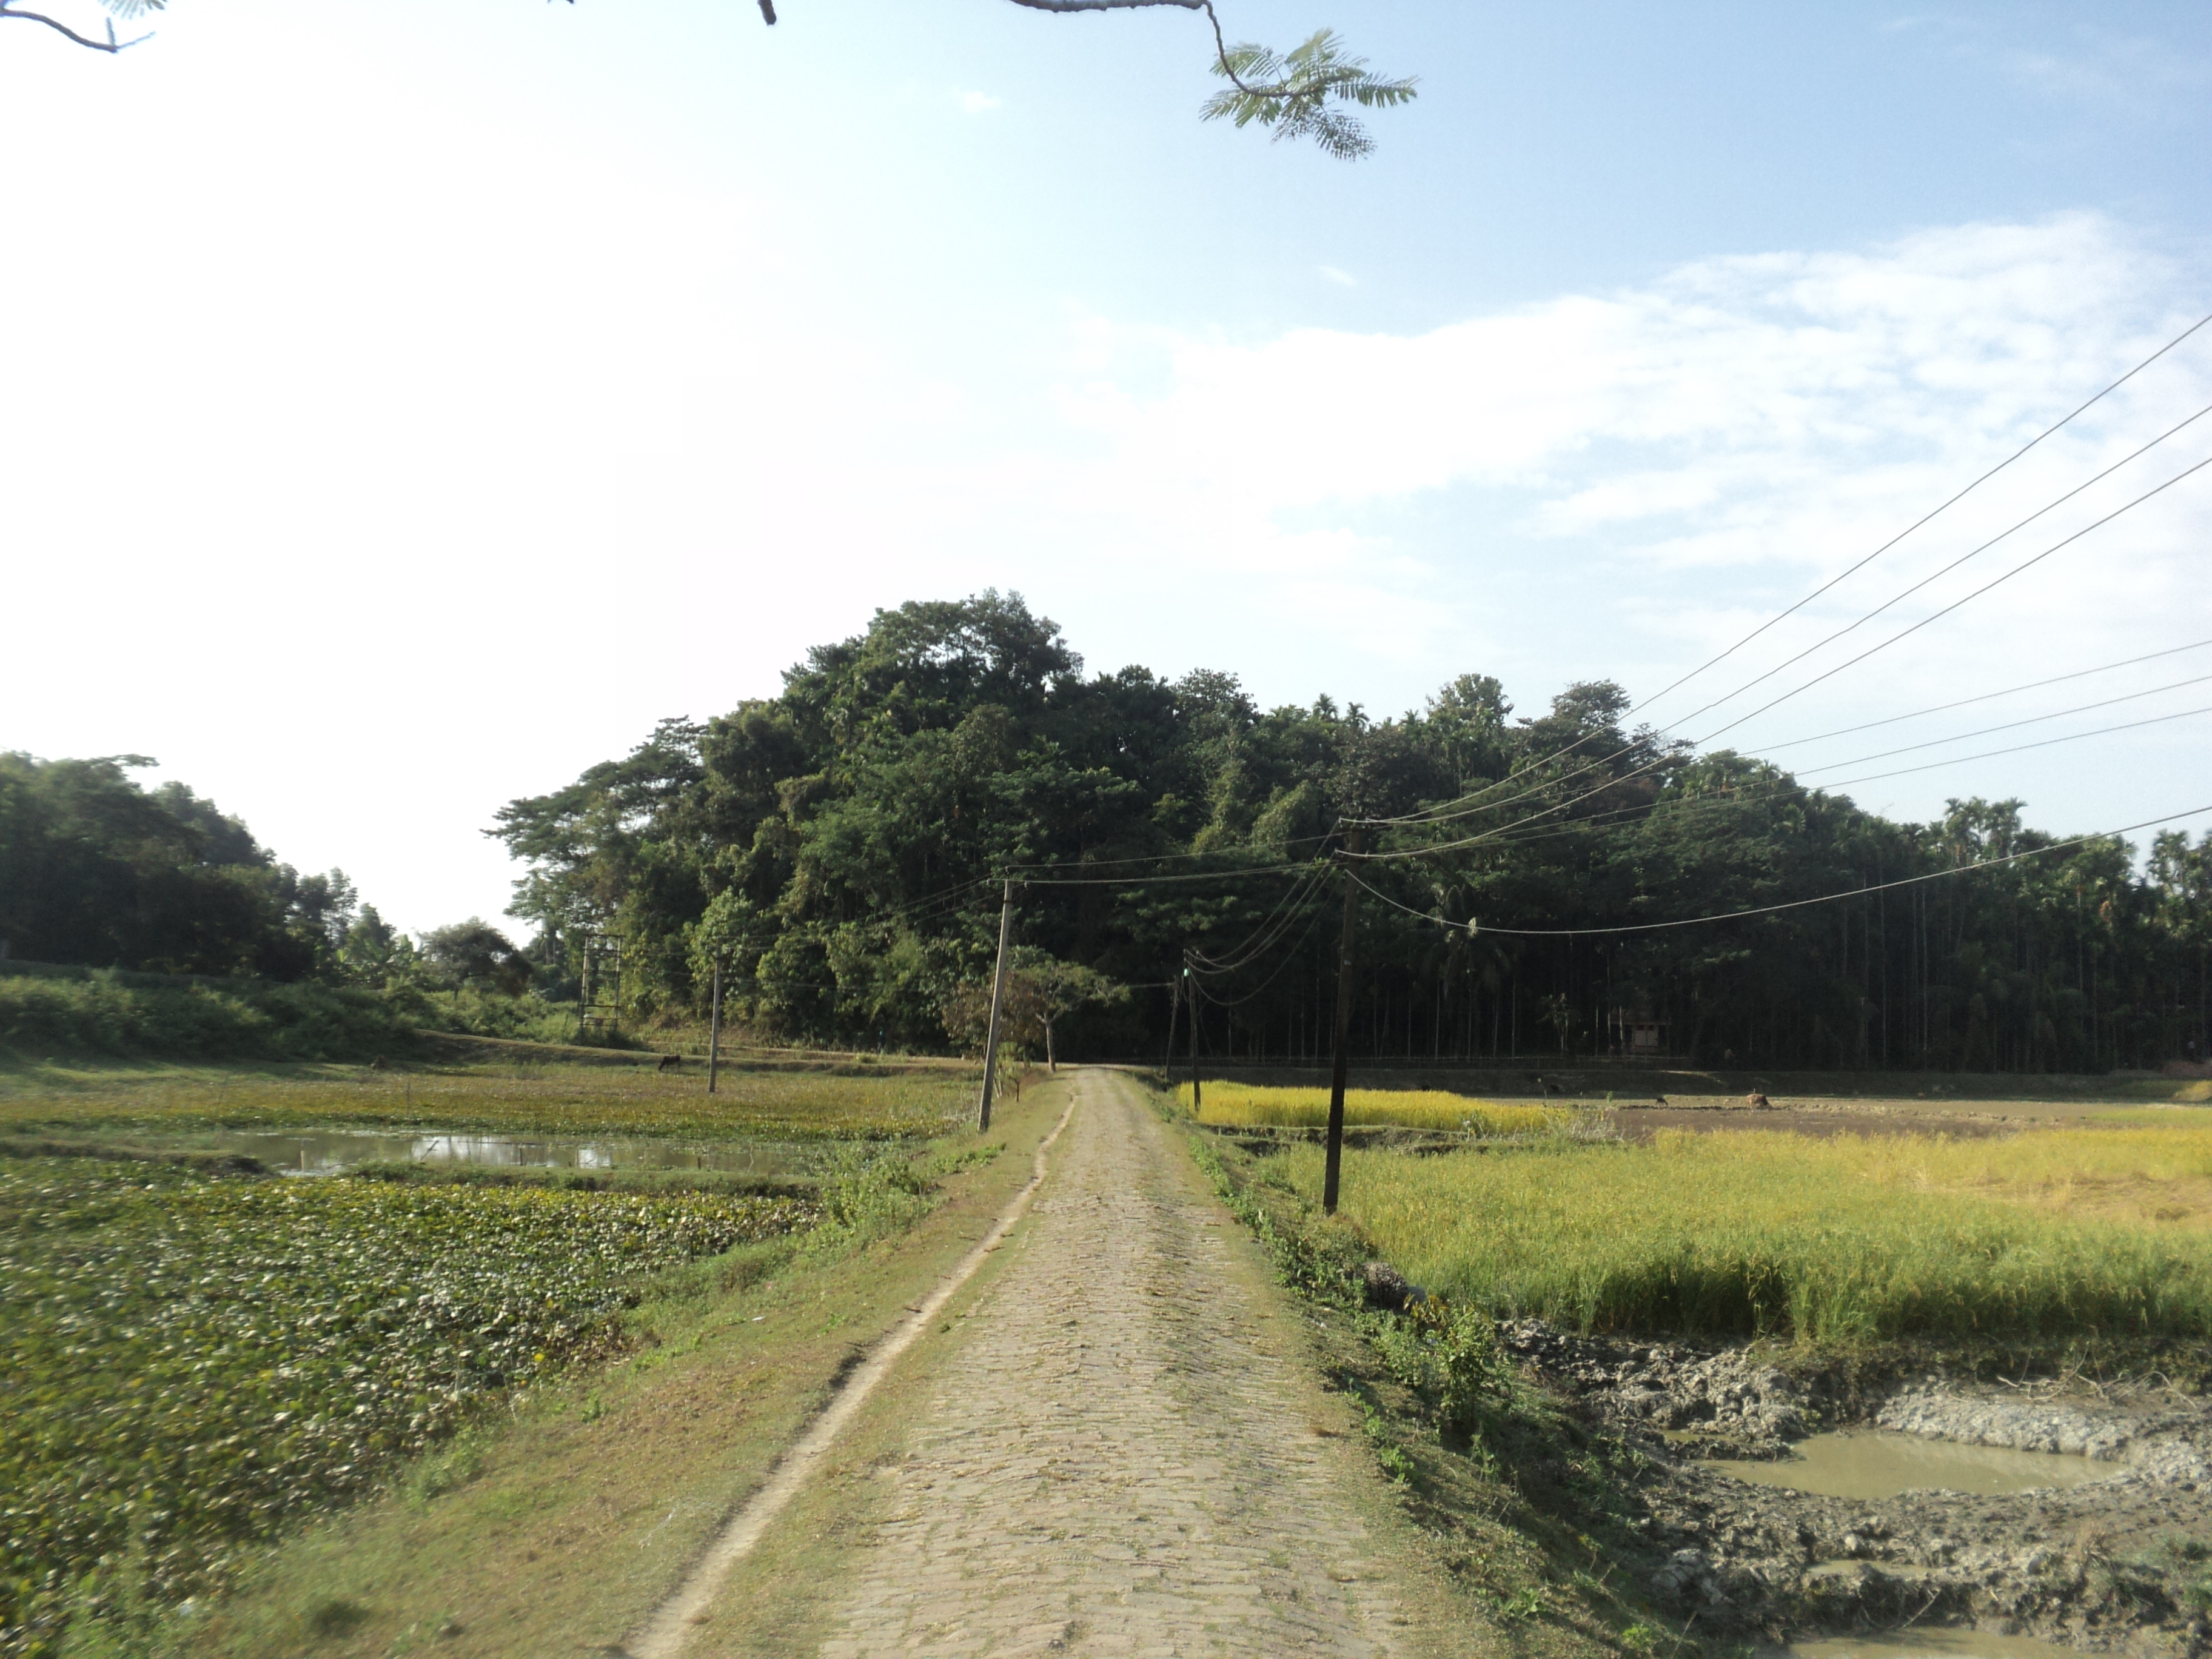sky: (131, 0, 2179, 545)
water: (82, 1110, 768, 1197), (1677, 1399, 2137, 1507), (1756, 1584, 2139, 1659)
